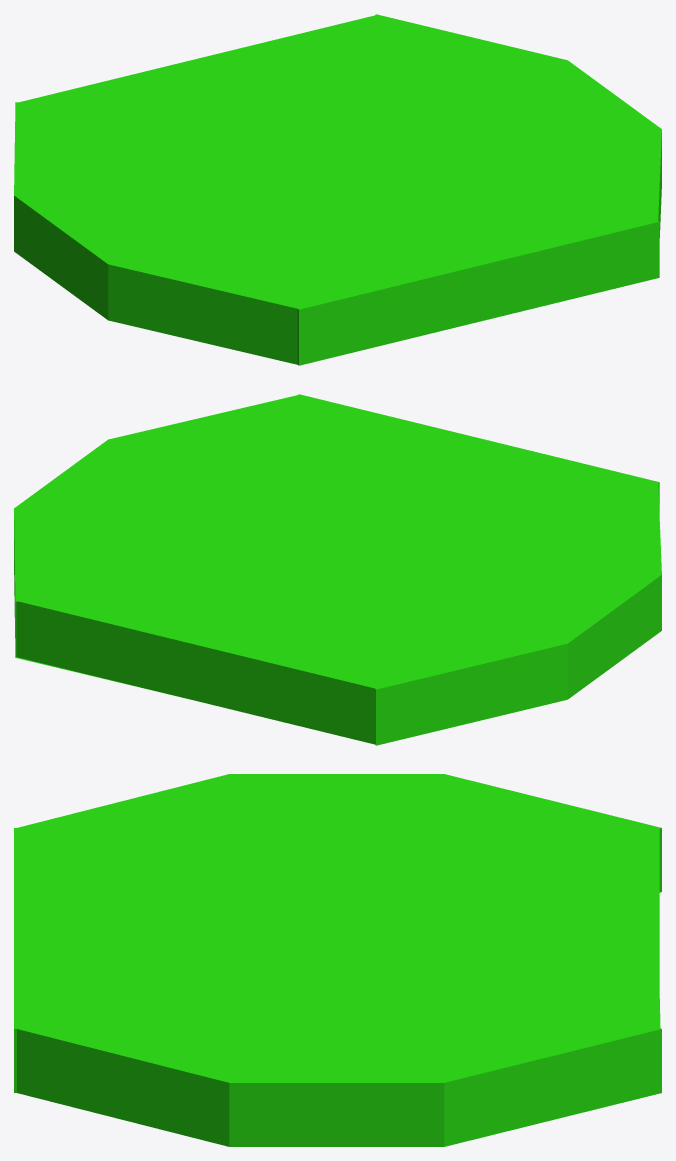
The model's file is gem.fbx.
The picture shows the model from 3 angles, top to bottom: view 1: azimuth 30°, elevation 25°; view 2: azimuth 150°, elevation 25°; view 3: azimuth 270°, elevation 25°; orthographic projection. The views are drawn at different scales.
Visible parts, largest first — view 1: Cube; view 2: Cube; view 3: Cube.
Part boxes in pixels (<box>): Cube: <box>14,14,661,365</box>; Cube: <box>14,394,661,745</box>; Cube: <box>14,774,661,1146</box>.
Bounding box in the file's own units: 226 × 21.91 × 201.
